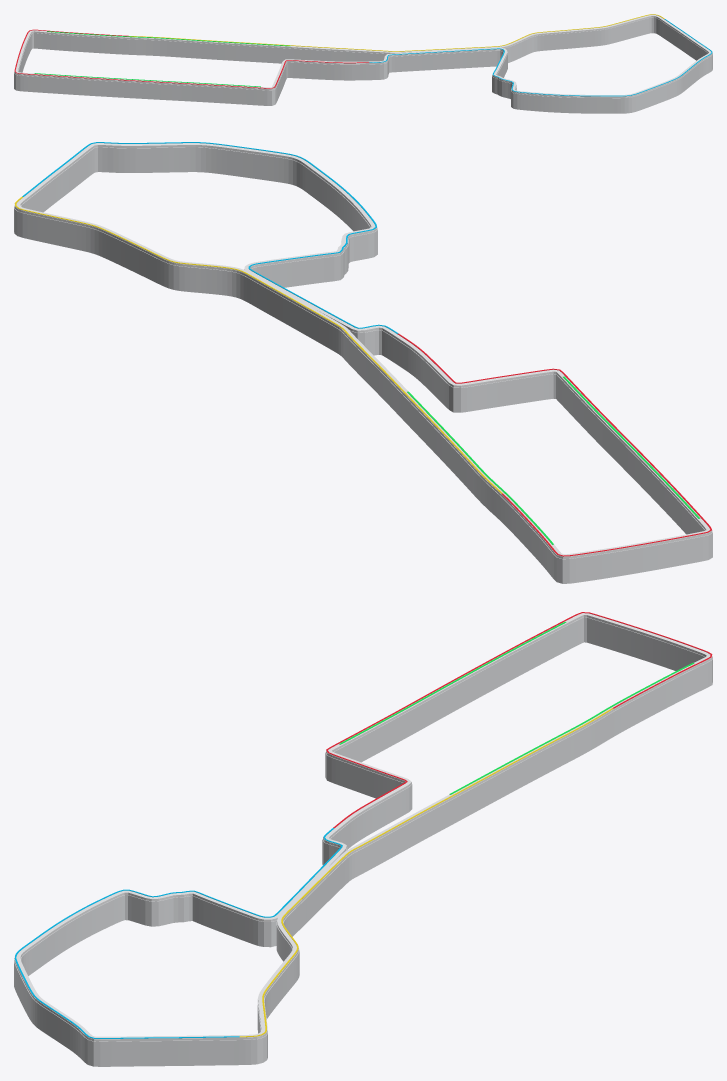
The model's file is BakuCircuit.glb.
The picture shows the model from 3 angles, top to bottom: view 1: azimuth 30°, elevation 25°; view 2: azimuth 150°, elevation 25°; view 3: azimuth 270°, elevation 25°; orthographic projection. The views are drawn at different scales.
Parts seen in each view (by area): view 1: BakuOutline, BakuTrack, SectorStrip_1, SectorStrip_3, SectorStrip_2, DrsStrip_2, DrsStrip_1; view 2: BakuOutline, BakuTrack, SectorStrip_2, SectorStrip_1, SectorStrip_3; view 3: BakuOutline, BakuTrack, SectorStrip_1, SectorStrip_2, SectorStrip_3.
Part boxes in pixels (left/top/right/bottom): BakuOutline: left=14, top=17, right=712, bottom=113; BakuTrack: left=14, top=15, right=712, bottom=97; SectorStrip_1: left=14, top=29, right=369, bottom=88; SectorStrip_3: left=130, top=14, right=664, bottom=51; SectorStrip_2: left=369, top=19, right=712, bottom=96; DrsStrip_2: left=47, top=31, right=290, bottom=46; DrsStrip_1: left=34, top=73, right=260, bottom=87; BakuOutline: left=14, top=147, right=712, bottom=583; BakuTrack: left=14, top=143, right=712, bottom=558; SectorStrip_2: left=22, top=142, right=398, bottom=333; SectorStrip_1: left=397, top=333, right=711, bottom=556; SectorStrip_3: left=14, top=196, right=502, bottom=493; BakuOutline: left=14, top=617, right=712, bottom=1066; BakuTrack: left=14, top=613, right=712, bottom=1041; SectorStrip_1: left=326, top=612, right=712, bottom=827; SectorStrip_2: left=14, top=828, right=342, bottom=1038; SectorStrip_3: left=239, top=708, right=613, bottom=1037.
Size of the model in its own units: 16.11 by 0.497 by 11.14.
